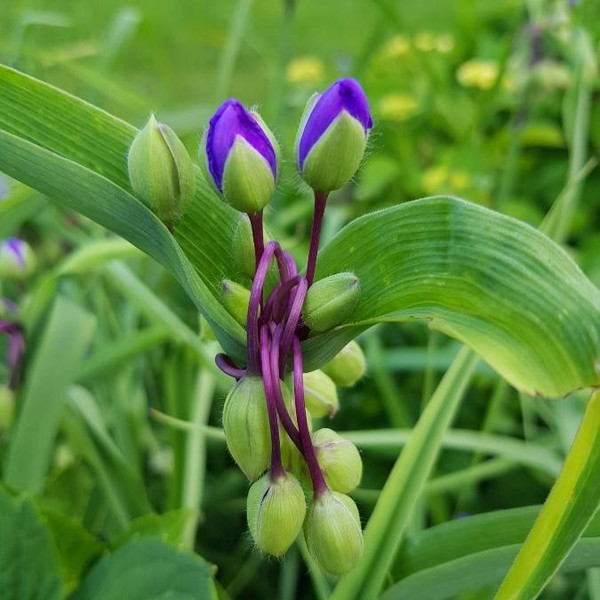obstacle: (101, 125, 576, 567)
